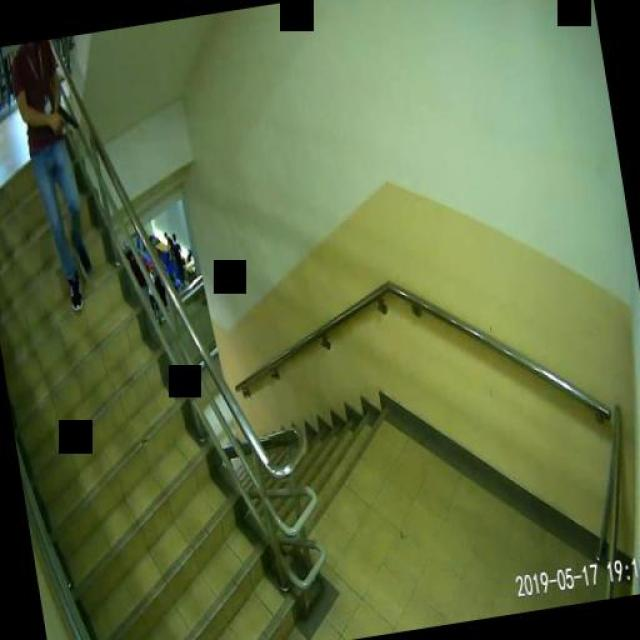gun: (52, 102, 76, 130)
